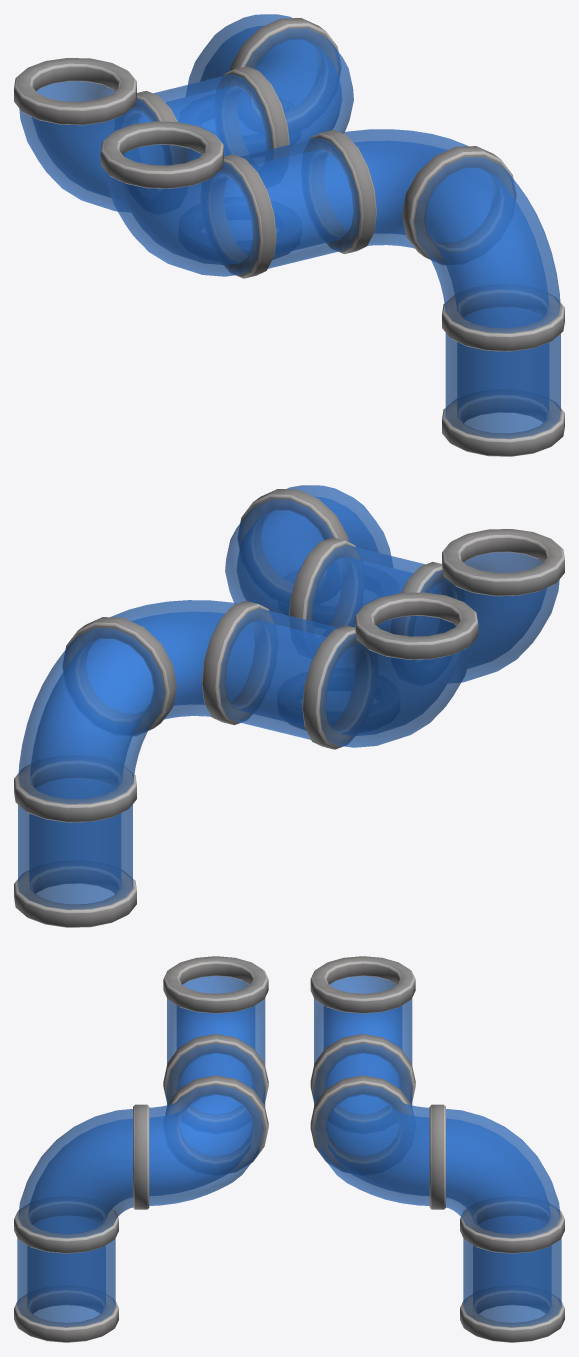
The model's file is Tubes.obj.
The picture shows the model from 3 angles, top to bottom: view 1: azimuth 30°, elevation 25°; view 2: azimuth 150°, elevation 25°; view 3: azimuth 270°, elevation 25°; orthographic projection. The views are drawn at different scales.
Visible parts, largest first — view 1: Tubes; view 2: Tubes; view 3: Tubes.
Part boxes in pixels (<box>): Tubes: <box>14,14,564,456</box>; Tubes: <box>14,485,564,927</box>; Tubes: <box>14,956,564,1342</box>.
Bounding box in the file's own units: 10.75 × 8.06 × 16.81.
Materials: 2 (2 with a texture image).
